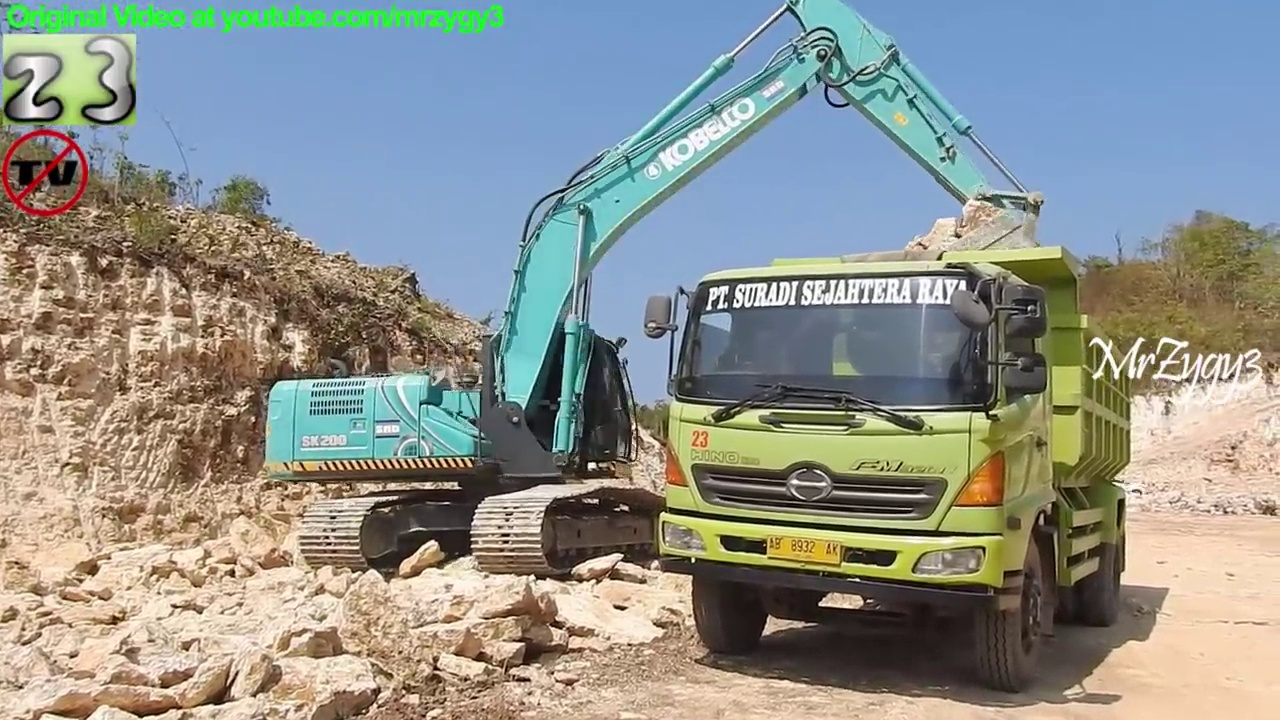excavator: (253, 1, 1061, 590)
truck: (637, 238, 1143, 698)
